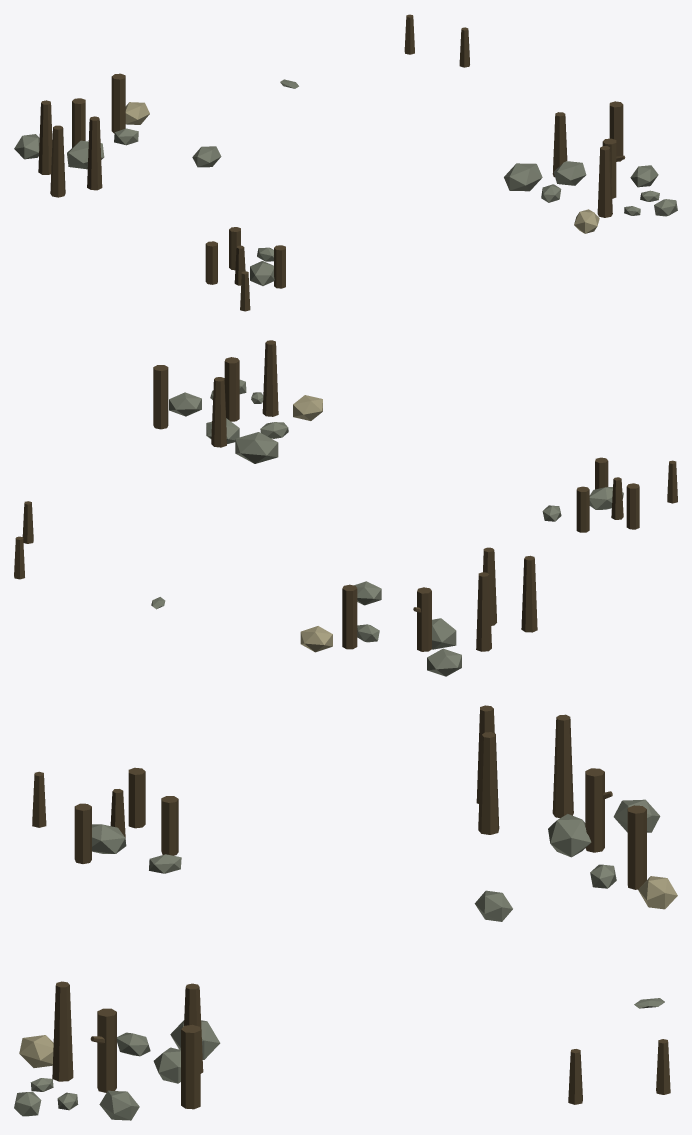
The model's file is blossom_terrace_solid_props.fbx.
3 views of the same model, one above another, from view 1: azimuth 30°, elevation 25°; view 2: azimuth 150°, elevation 25°; view 3: azimuth 270°, elevation 25° (orthographic). The views are drawn at different scales.
Parts seen in each view (by area): view 1: chunk_blossom_terrace__PropsSolid; view 2: chunk_blossom_terrace__PropsSolid; view 3: chunk_blossom_terrace__PropsSolid.
Part boxes in pixels (<box>): chunk_blossom_terrace__PropsSolid: <box>14,14,677,311</box>; chunk_blossom_terrace__PropsSolid: <box>14,340,677,676</box>; chunk_blossom_terrace__PropsSolid: <box>14,705,677,1120</box>.
Bounding box in the file's own units: 181 × 28.38 × 158.
